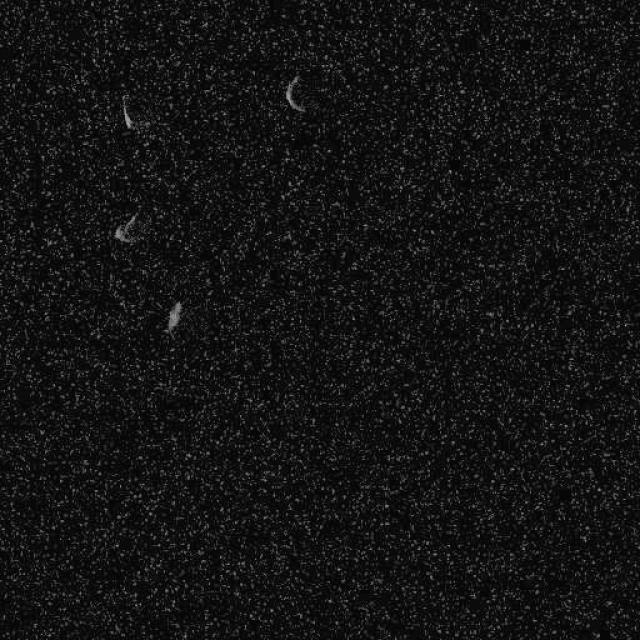D2: (112, 208, 142, 244), (284, 74, 306, 112), (164, 298, 182, 334), (120, 92, 135, 130)
